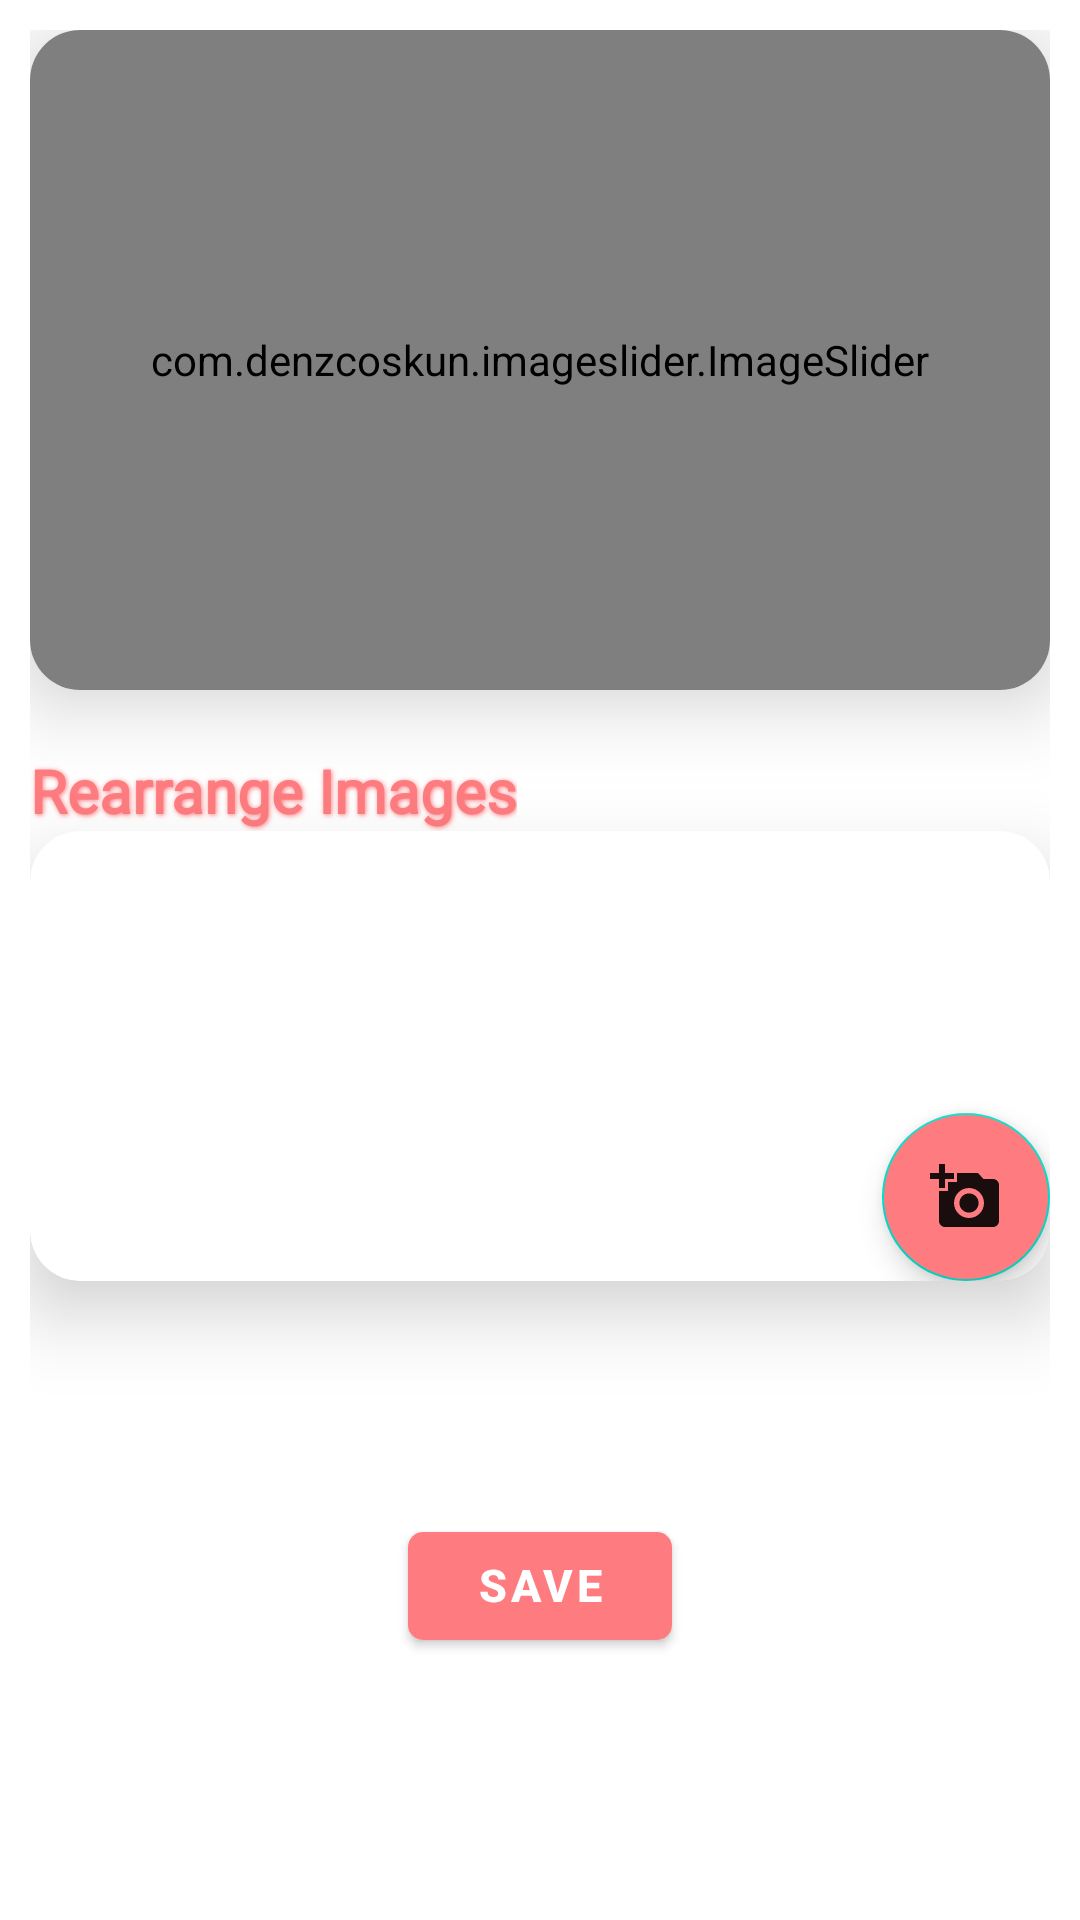

Named icons in this screenshot (1080 × 1920) and their centers, point (x, y):
add photo: point (966, 1197)
